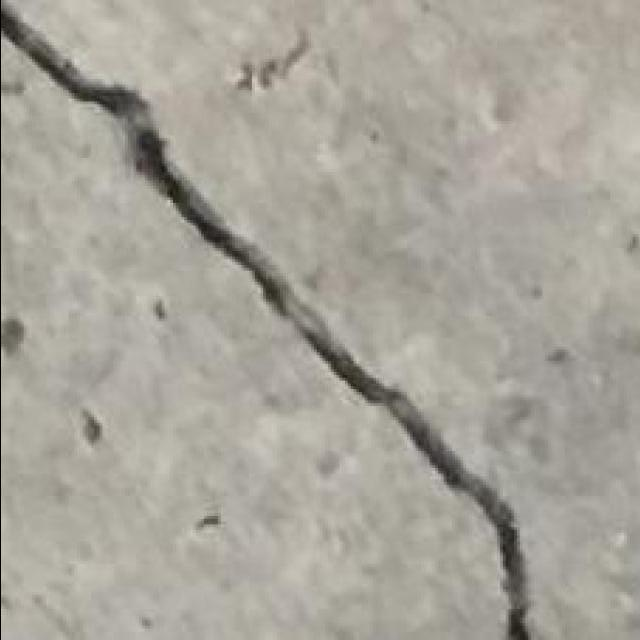Crack: (1, 3, 532, 637)
